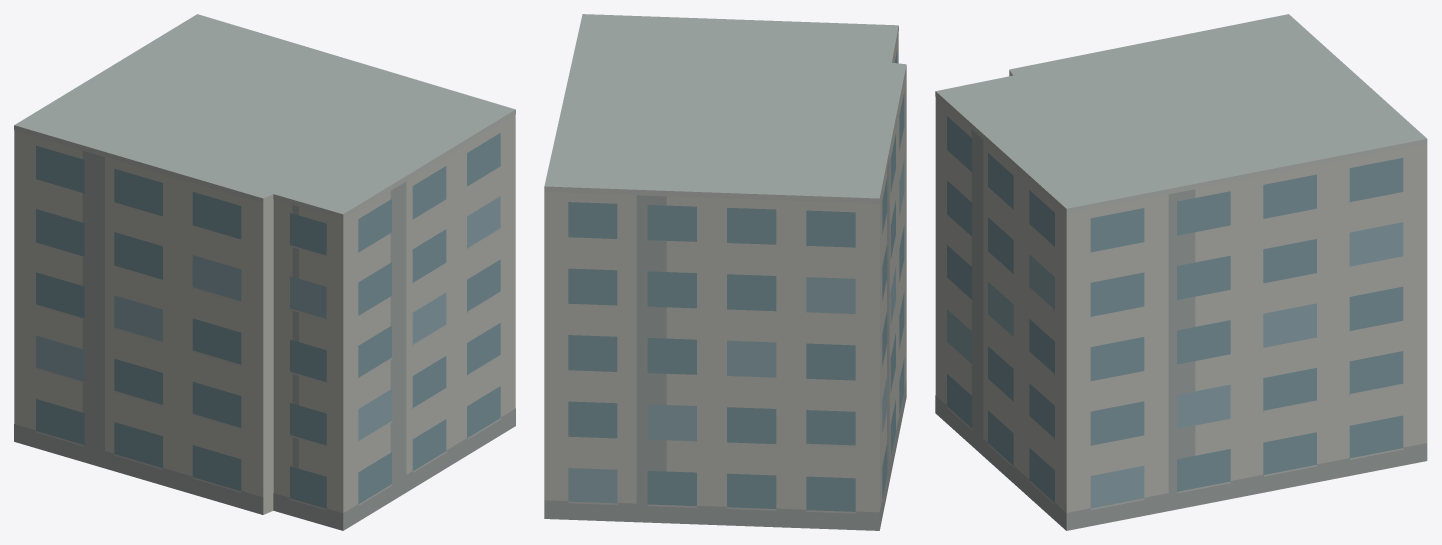
Rendered from survey-upis-32486264.glb.
The picture shows the model from 3 angles, left to right: view 1: azimuth 30°, elevation 25°; view 2: azimuth 150°, elevation 25°; view 3: azimuth 270°, elevation 25°; orthographic projection. The views are drawn at different scales.
Visible parts, largest first — view 1: survey-upis-32486264.tmp; view 2: survey-upis-32486264.tmp; view 3: survey-upis-32486264.tmp.
Part boxes in pixels (bbox=[...]): survey-upis-32486264.tmp: bbox=[14, 14, 515, 530]; survey-upis-32486264.tmp: bbox=[544, 14, 906, 530]; survey-upis-32486264.tmp: bbox=[935, 14, 1427, 530].
Size of the model in its own units: 18.84 by 14.52 by 20.1.
